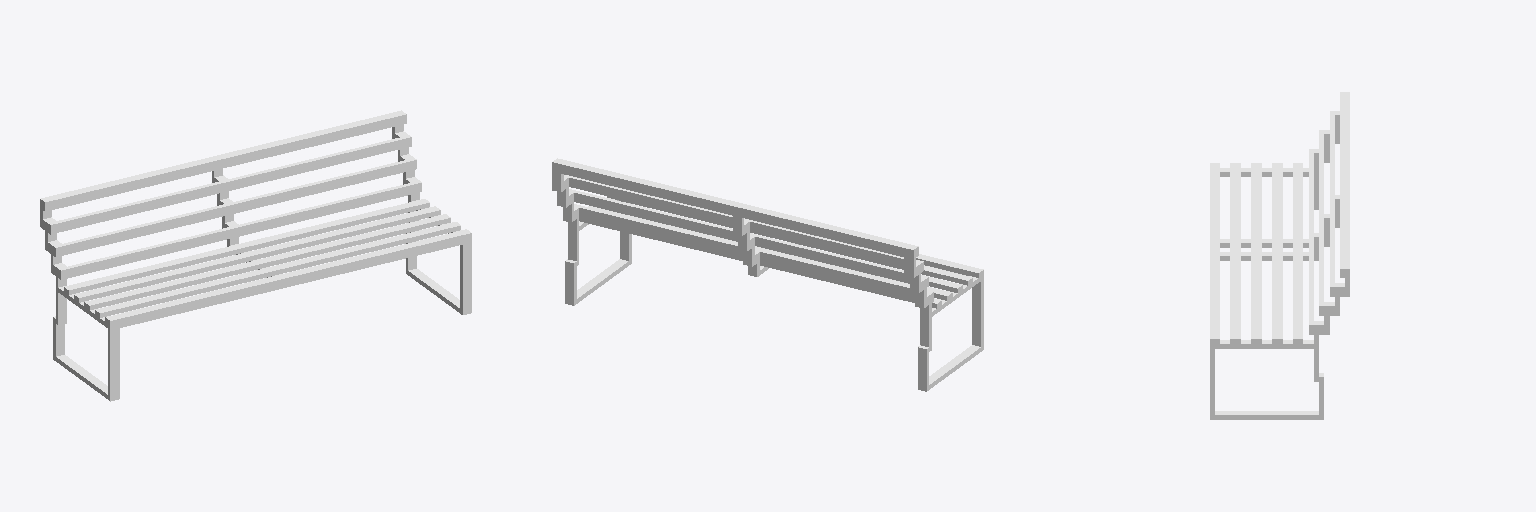
The model's file is bench1-1-lod1.obj.
3 renders of one model, left to right at view 1: azimuth 30°, elevation 25°; view 2: azimuth 150°, elevation 25°; view 3: azimuth 270°, elevation 25°, orthographic.
Parts seen in each view (by area): view 1: lod1; view 2: lod1; view 3: lod1.
Part boxes in pixels (bbox=[...]): lod1: bbox=[40, 110, 471, 401]; lod1: bbox=[552, 158, 983, 391]; lod1: bbox=[1210, 92, 1349, 419].
Bounding box in the file's own units: 16 × 6.4 × 5.4.